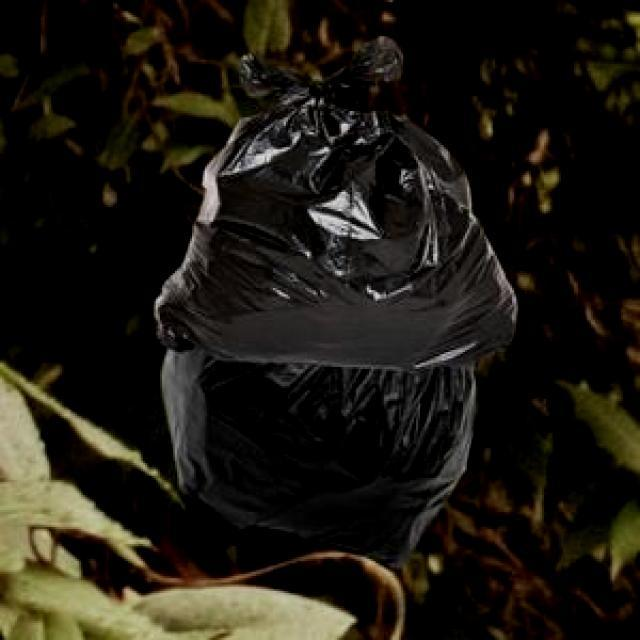Trashbag: (146, 41, 532, 369), (158, 334, 481, 563)
